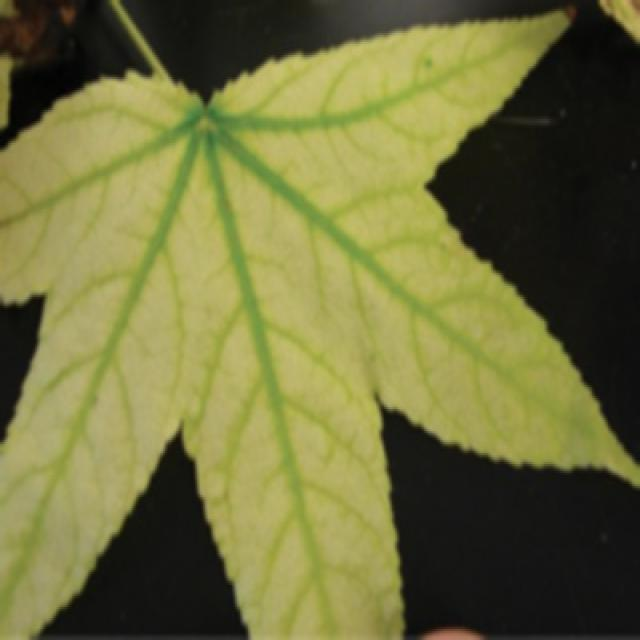Chlorosis: (0, 4, 640, 605)
